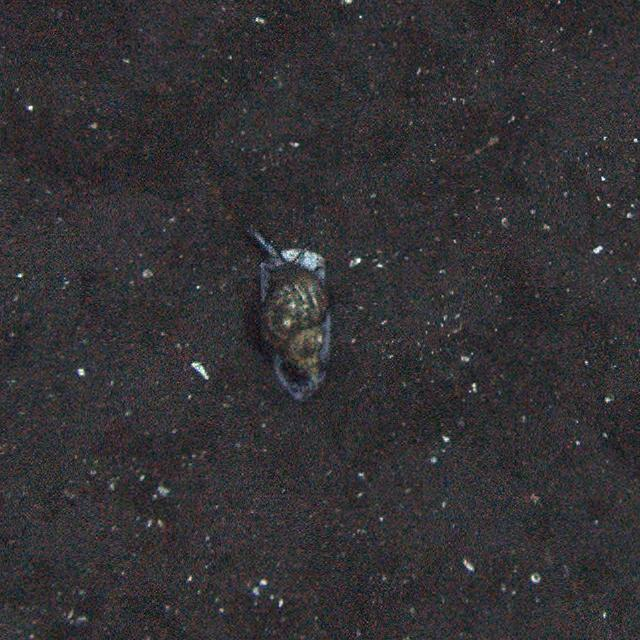whelk: (255, 255, 328, 382)
